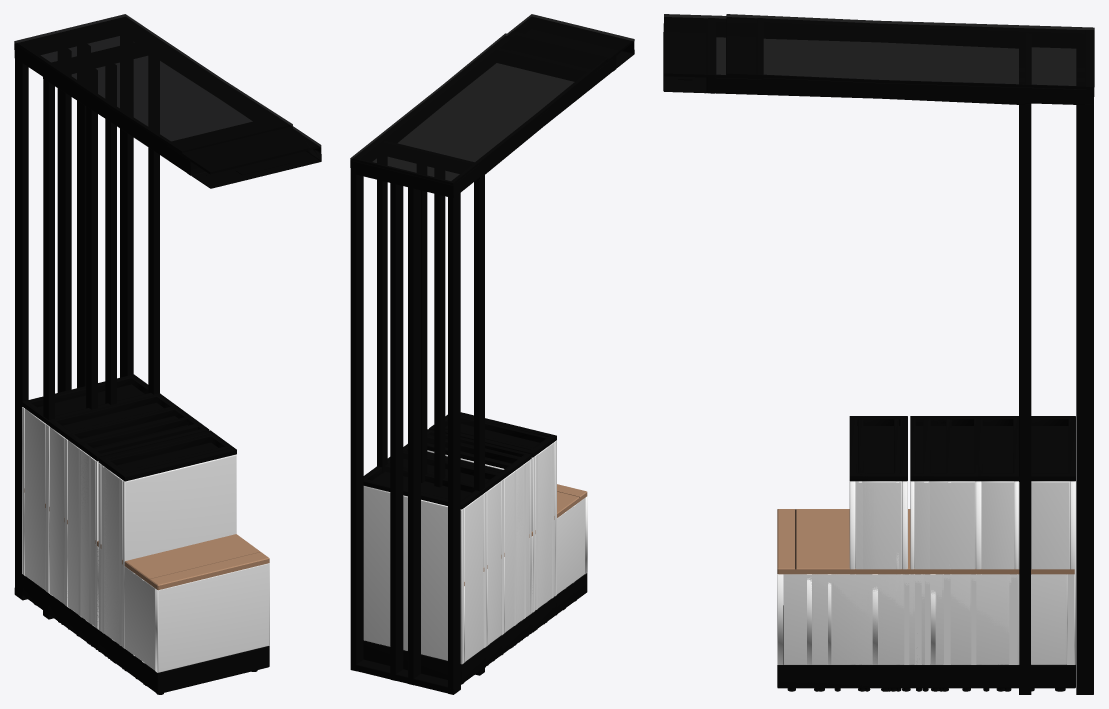
The model's file is CORN.glb.
The picture shows the model from 3 angles, left to right: view 1: azimuth 30°, elevation 25°; view 2: azimuth 150°, elevation 25°; view 3: azimuth 270°, elevation 25°; orthographic projection. The views are drawn at different scales.
Parts seen in each view (by area): view 1: SetR, SetBP, SetRN, SetP, SetBR, SetBRN, SetBPN, SetRP, SetRPN, SetPN, SetB; view 2: SetR, SetRN, SetRP, SetBR, SetBP, SetBRN, SetP, SetRPN, SetBPN, SetPN; view 3: SetR, SetBR, SetBP, SetRN, SetBRN, SetB, SetP, SetRP, SetBRP, SetRPN, SetBPN, SetBN (+2 smaller).
Part boxes in pixels (<box>): SetR: <box>14,14,321,600</box>; SetBP: <box>65,406,269,694</box>; SetRN: <box>43,62,292,619</box>; SetP: <box>98,430,236,670</box>; SetBR: <box>14,14,320,643</box>; SetBRN: <box>44,63,292,649</box>; SetBPN: <box>78,417,254,685</box>; SetRP: <box>22,374,159,613</box>; SetRPN: <box>48,393,176,629</box>; SetPN: <box>102,433,231,669</box>; SetB: <box>80,535,248,684</box>; SetR: <box>350,14,634,694</box>; SetRN: <box>377,33,607,675</box>; SetRP: <box>363,463,486,684</box>; SetBR: <box>350,14,634,683</box>; SetBP: <box>403,434,587,654</box>; SetBRN: <box>442,34,607,667</box>; SetP: <box>429,412,556,632</box>; SetRPN: <box>387,451,503,667</box>; SetBPN: <box>427,429,574,646</box>; SetPN: <box>445,415,553,631</box>; SetR: <box>663,14,1094,694</box>; SetBR: <box>664,14,1094,691</box>; SetBP: <box>777,416,980,691</box>; SetRN: <box>726,14,1031,694</box>; SetBRN: <box>726,14,1017,691</box>; SetB: <box>806,509,950,691</box>; SetP: <box>849,416,907,691</box>; SetRP: <box>1018,416,1075,691</box>; SetBRP: <box>872,509,1016,691</box>; SetRPN: <box>977,416,1018,691</box>; SetBPN: <box>807,416,951,691</box>; SetBN: <box>827,509,929,691</box>.
Bounding box in the file's own units: 0.4898 × 2.36 × 1.48.
